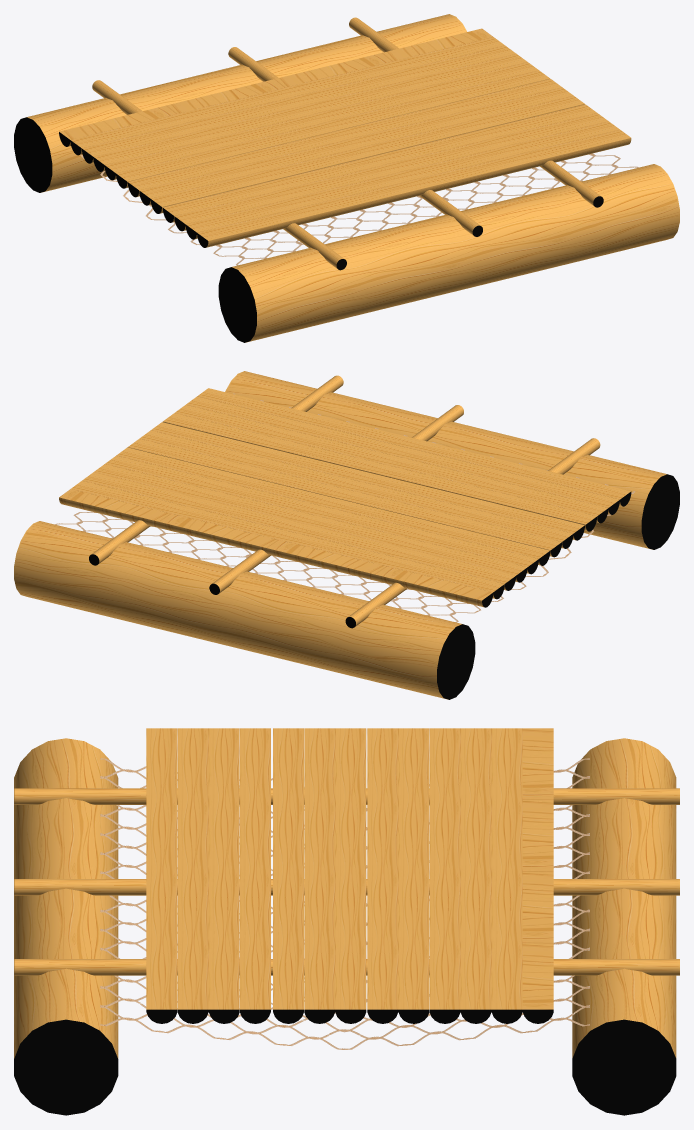
The model's file is Half Lofg.FBX.
3 renders of one model, top to bottom at view 1: azimuth 30°, elevation 25°; view 2: azimuth 150°, elevation 25°; view 3: azimuth 270°, elevation 25°, orthographic. The views are drawn at different scales.
Parts seen in each view (by area): view 1: Box001; view 2: Box001; view 3: Box001.
Part boxes in pixels (left/top/right/bottom): Box001: left=14, top=14, right=679, bottom=342; Box001: left=14, top=371, right=679, bottom=699; Box001: left=14, top=728, right=679, bottom=1115.
Bounding box in the file's own units: 148 × 26.04 × 148.
Materials: 4 (2 with a texture image).
